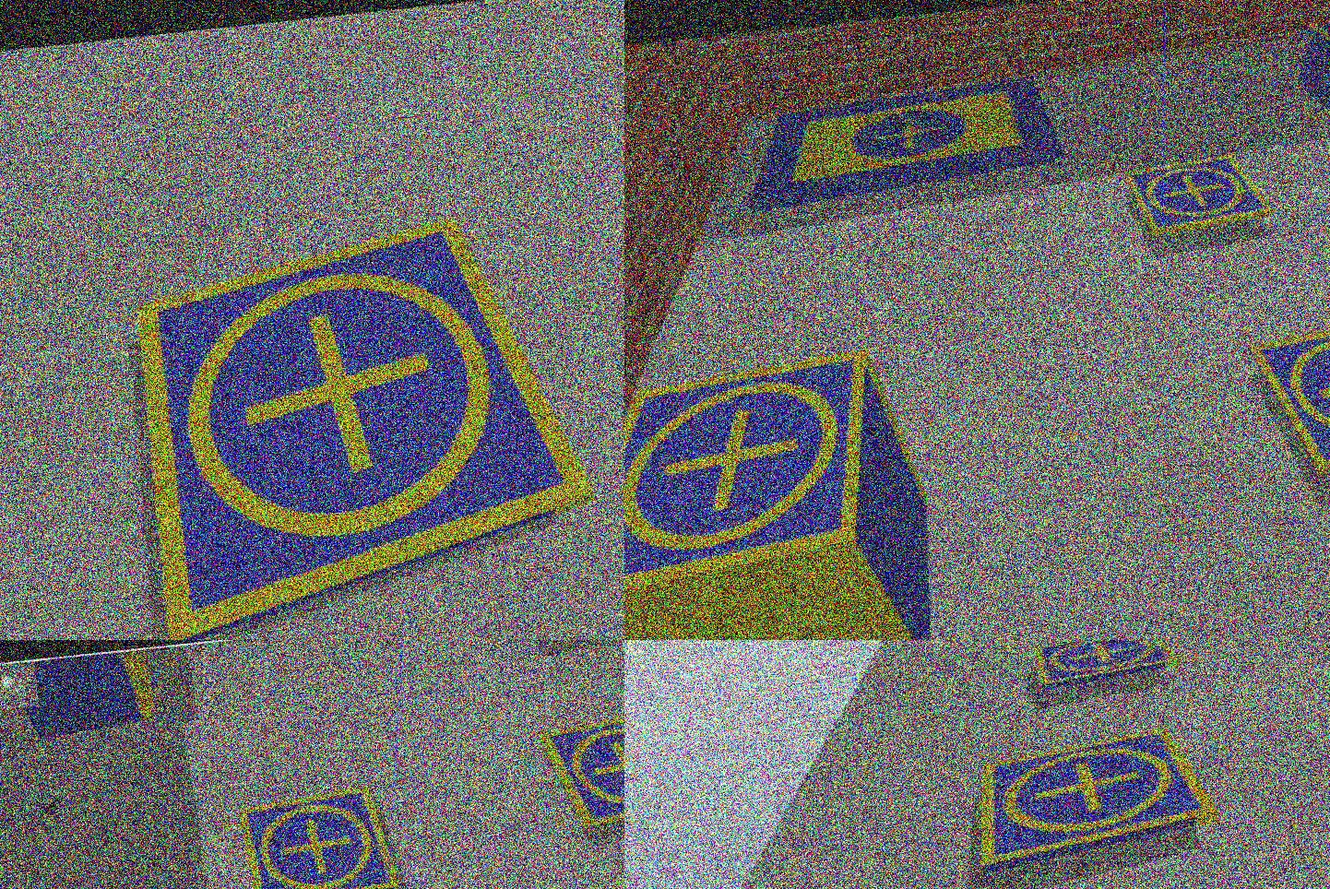large_base: (739, 72, 1070, 214)
small_base: (126, 202, 612, 641), (624, 349, 895, 598), (970, 725, 1223, 879), (236, 783, 401, 889), (1242, 302, 1330, 483), (1121, 150, 1276, 240), (537, 705, 624, 835), (1030, 641, 1184, 690)
